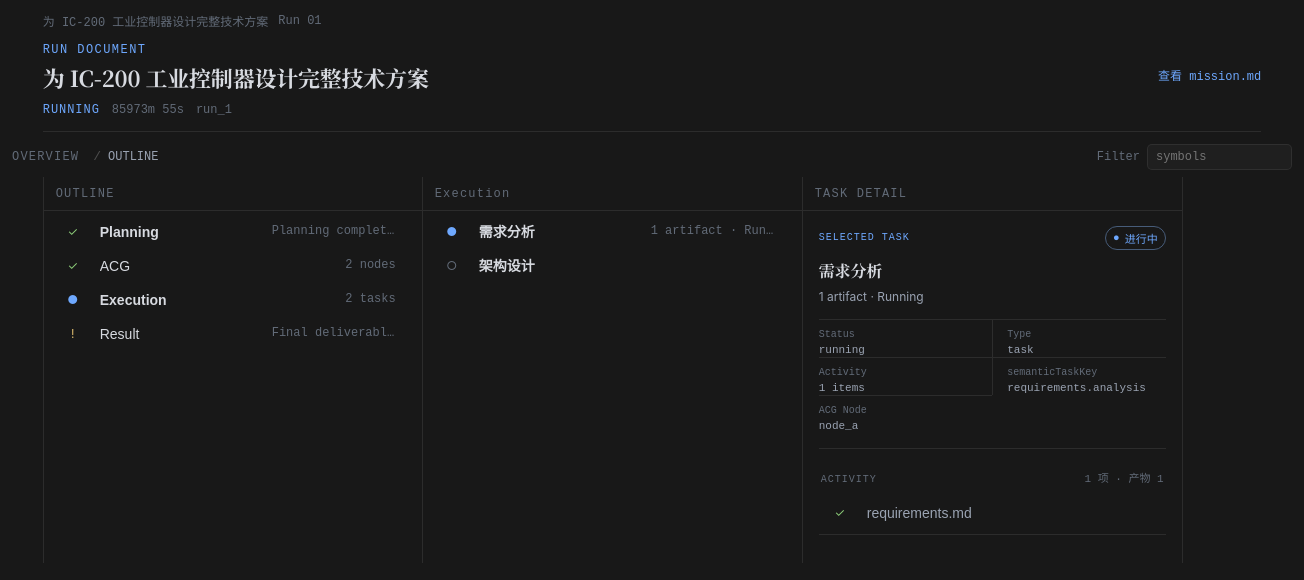
Test: RunProgressEditor › resets an open Execution branch when selecting root-level Planning
Click the button with class "run-symbol__main" showing "Planning Planning completed" at (129, 232), box top-left (94, 217), bottom-right (402, 247)
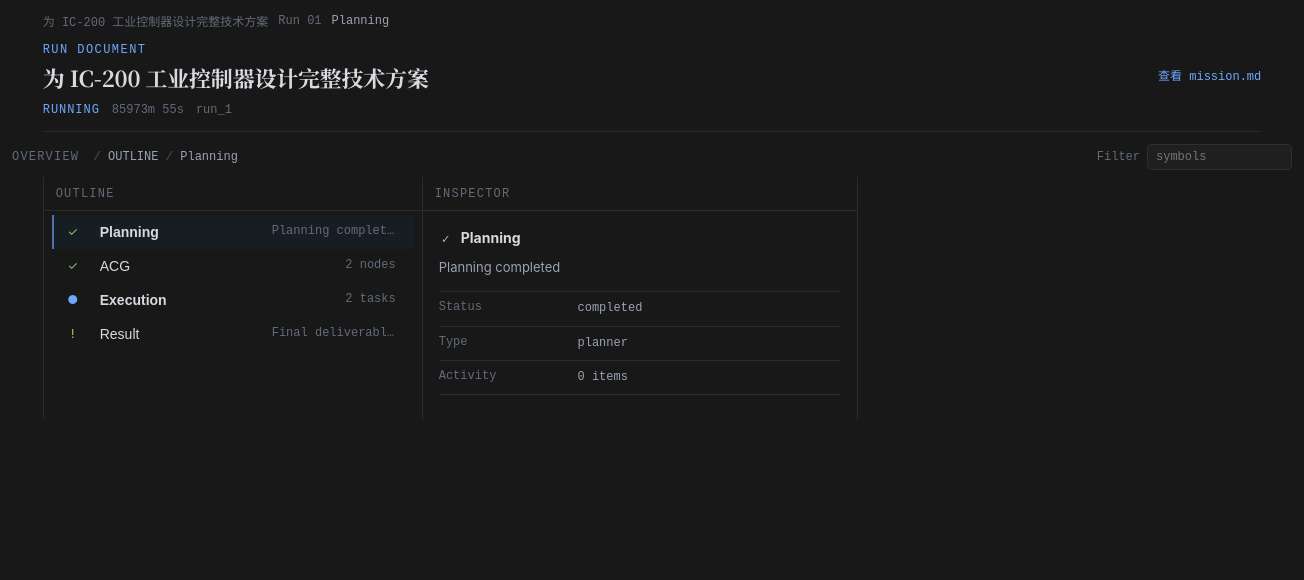
Expected: the number of elements with class "run-progress__column" is 2, top-left (43, 177), bottom-right (423, 419); top-left (423, 177), bottom-right (858, 419)
Expected: the text with class "run-progress__column-head" reads "INSPECTOR", top-left (435, 187), bottom-right (510, 201)
Expected: the element with class "run-progress__column" shows "Planning", top-left (461, 230), bottom-right (520, 246)
